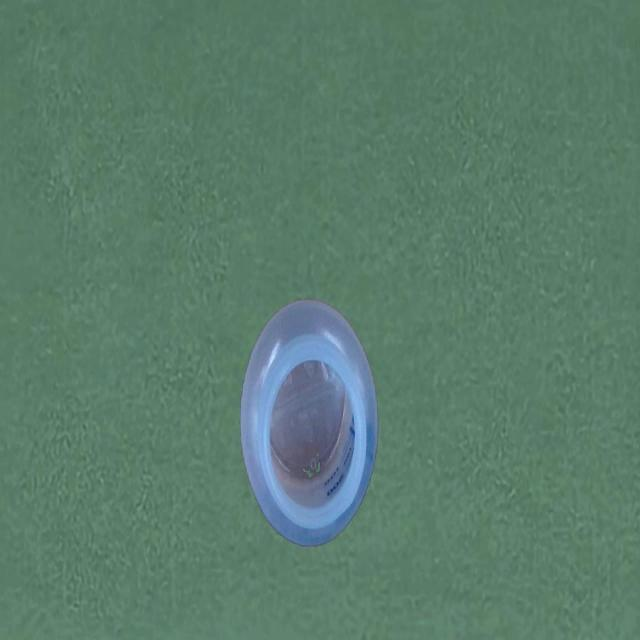bottle: (239, 295, 381, 548)
